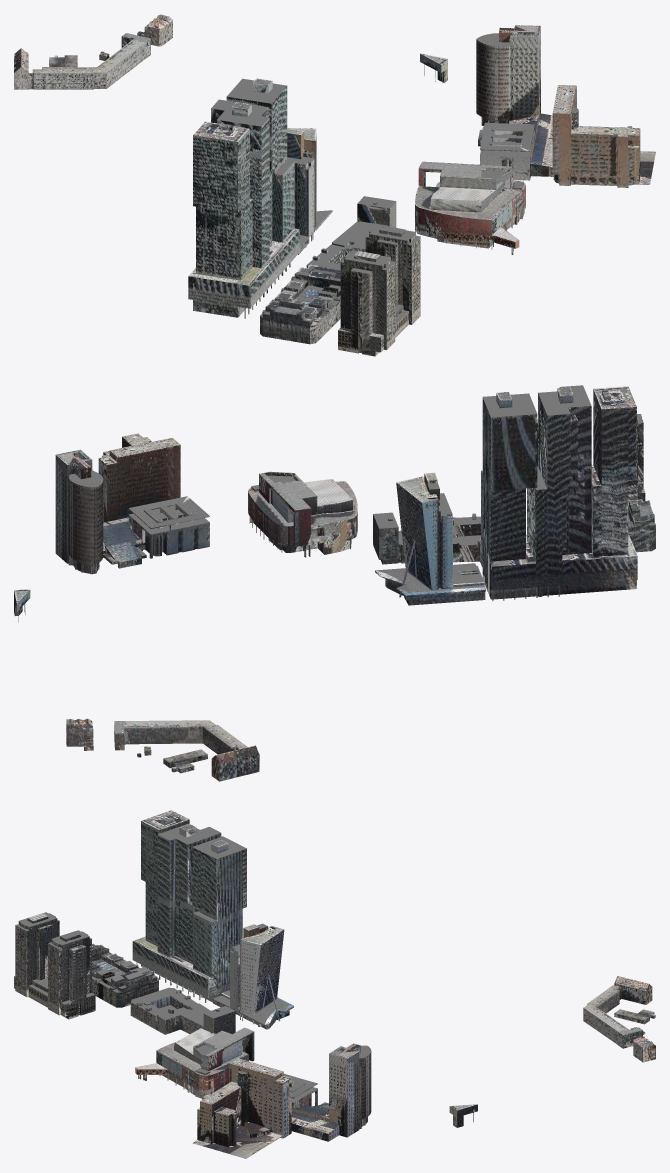
The model's file is rotterdam_noordereiland.glb.
The picture shows the model from 3 angles, top to bottom: view 1: azimuth 30°, elevation 25°; view 2: azimuth 150°, elevation 25°; view 3: azimuth 270°, elevation 25°; orthographic projection. The views are drawn at different scales.
Visible parts, largest first — view 1: CITY_MODEL; view 2: CITY_MODEL; view 3: CITY_MODEL.
Part boxes in pixels (left/top/right/bottom): CITY_MODEL: left=14, top=14, right=655, bottom=356; CITY_MODEL: left=14, top=385, right=655, bottom=781; CITY_MODEL: left=14, top=810, right=655, bottom=1158.
Bounding box in the file's own units: 442 × 154 × 582.
1 material, 1 textured.
